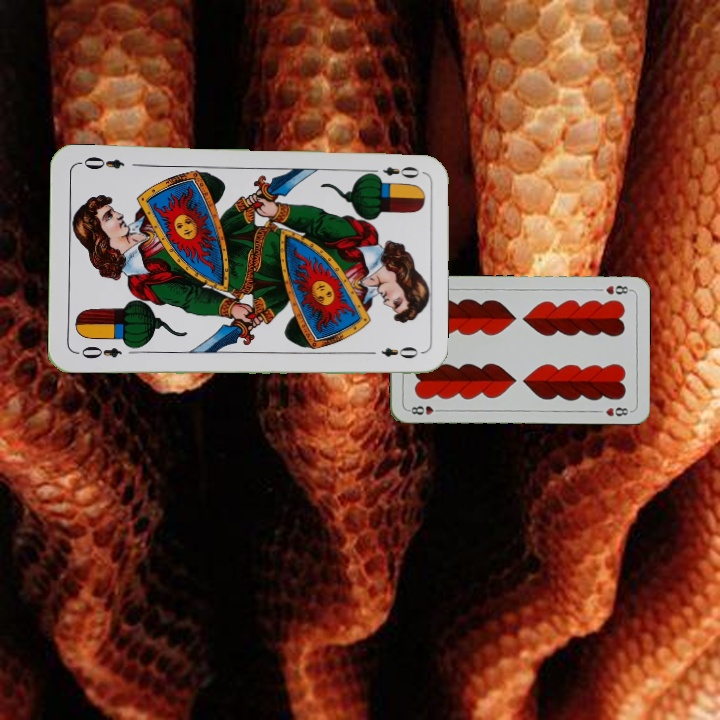EO: (365, 162, 422, 182), (72, 342, 124, 362)
H8: (404, 402, 445, 417), (602, 282, 634, 297)
